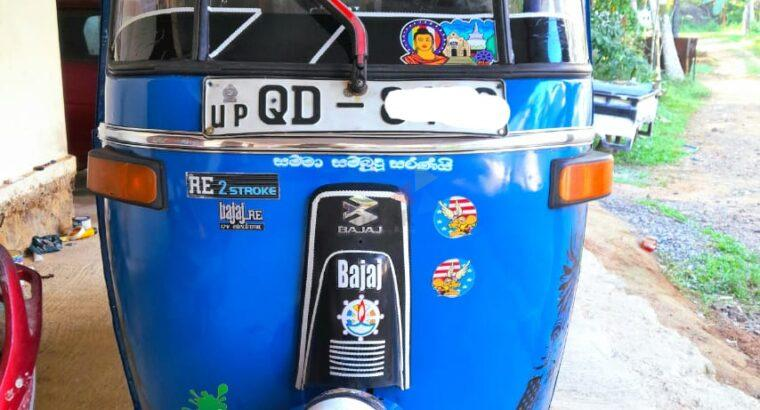threewheel: (84, 1, 613, 410)
